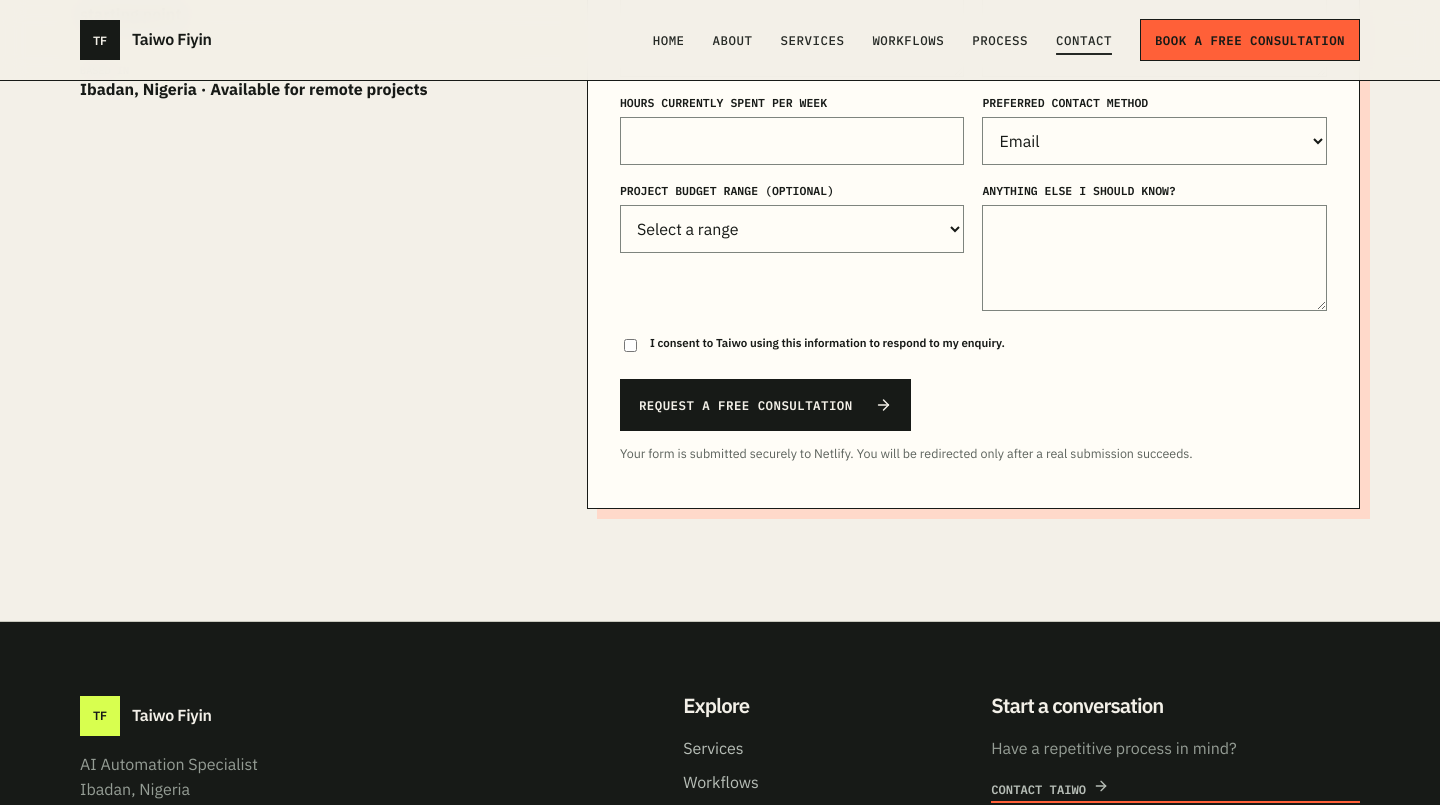
Test case: contact validation works
(page scrolled)
Click the button "Request a free consultation".
click(765, 405)  # box [620,379,911,431]
(page scrolled)
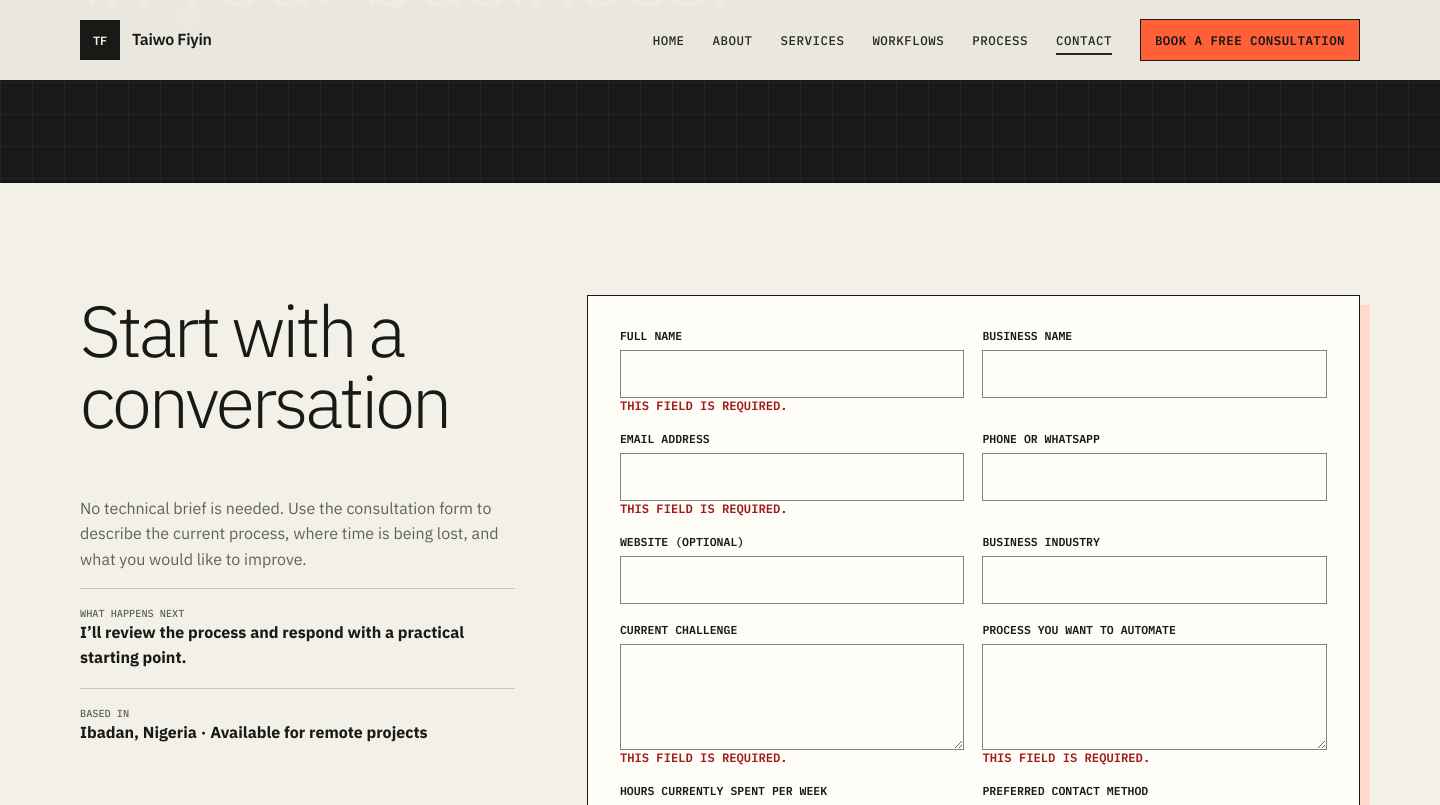
Result: the text "This field is required." below "Full name" is shown at [620,398,788,413]
